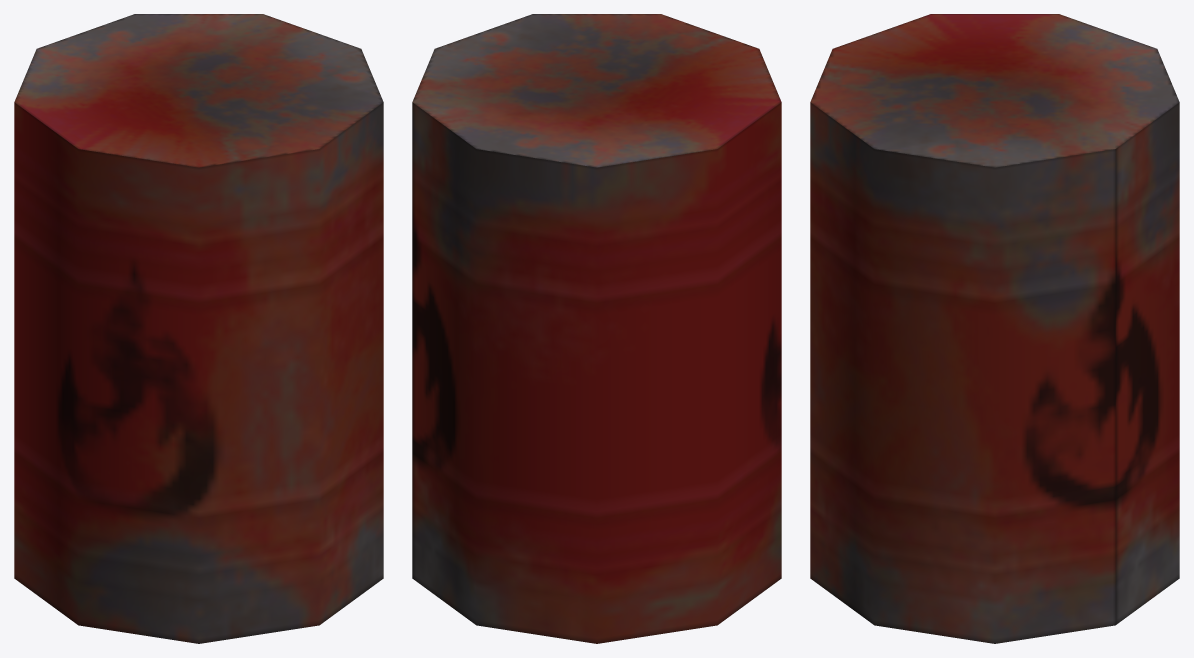
Rendered from Tank.FBX.
3 renders of one model, left to right at view 1: azimuth 30°, elevation 25°; view 2: azimuth 150°, elevation 25°; view 3: azimuth 270°, elevation 25°, orthographic.
Parts seen in each view (by area): view 1: Cylinder045; view 2: Cylinder045; view 3: Cylinder045.
Part boxes in pixels (box(x1,y1,x2,y2)): Cylinder045: box(14, 14, 383, 643); Cylinder045: box(412, 14, 781, 643); Cylinder045: box(810, 14, 1179, 643).
Size of the model in its own units: 91.76 by 133 by 93.17.
